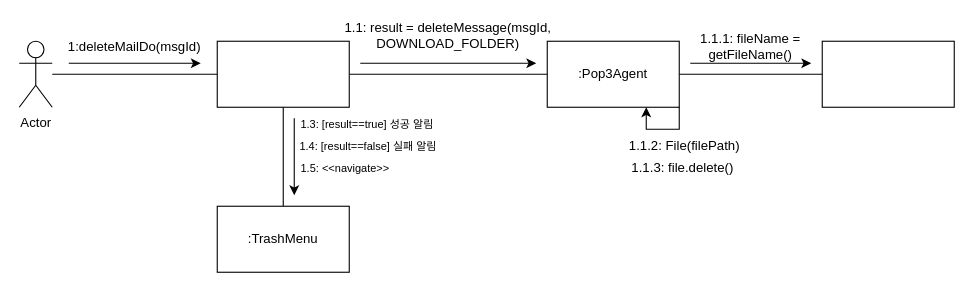
Some shapes in this 974 by 292 pixel diagram are drawn without their labels. The shapes that lost their labels are listed below. From the top down, each one's box as (x1, y1, x2, y2) in pixels, then its label:
(216, 40, 349, 107): :TrashController
(821, 40, 954, 107): :MessageParser
